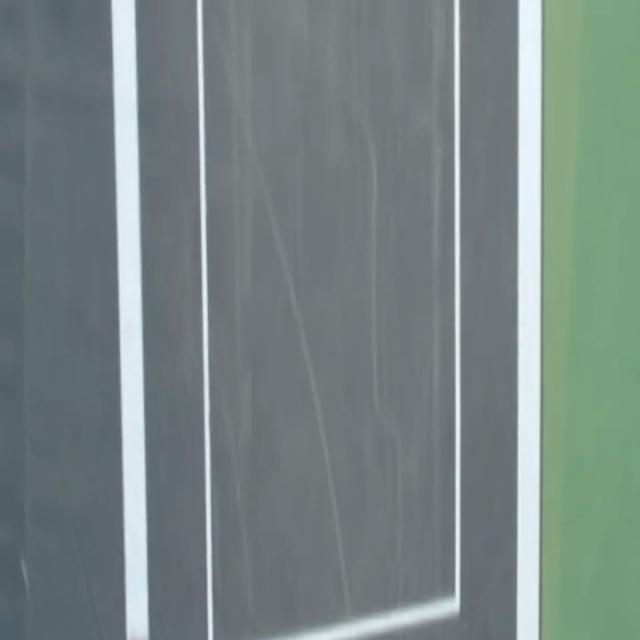center: (111, 0, 148, 639)
right: (516, 0, 540, 639)
